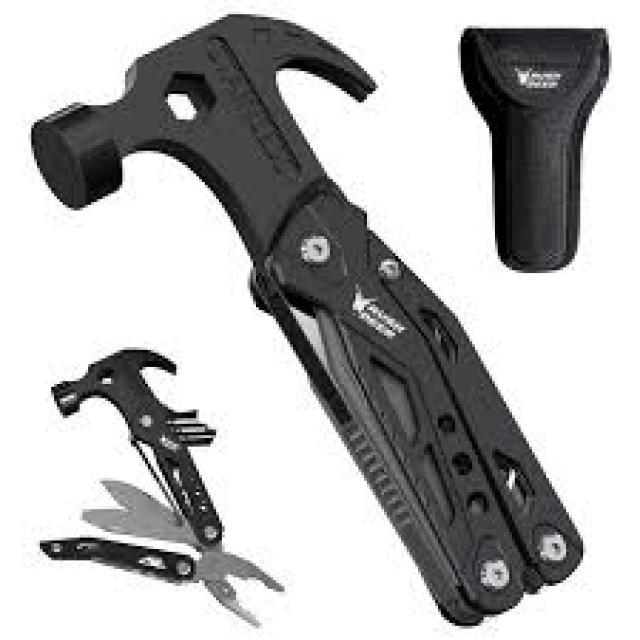hammer: (22, 9, 594, 628), (44, 334, 246, 550)
